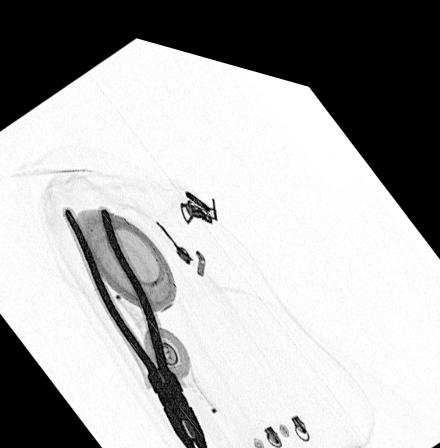Pliers: (63, 197, 213, 448)
